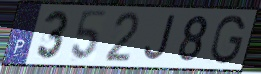2: (103, 10, 141, 64)
3: (36, 9, 71, 61)
5: (69, 9, 111, 64)
8: (176, 13, 210, 64)
G: (209, 13, 247, 66)
J: (142, 13, 178, 62)
